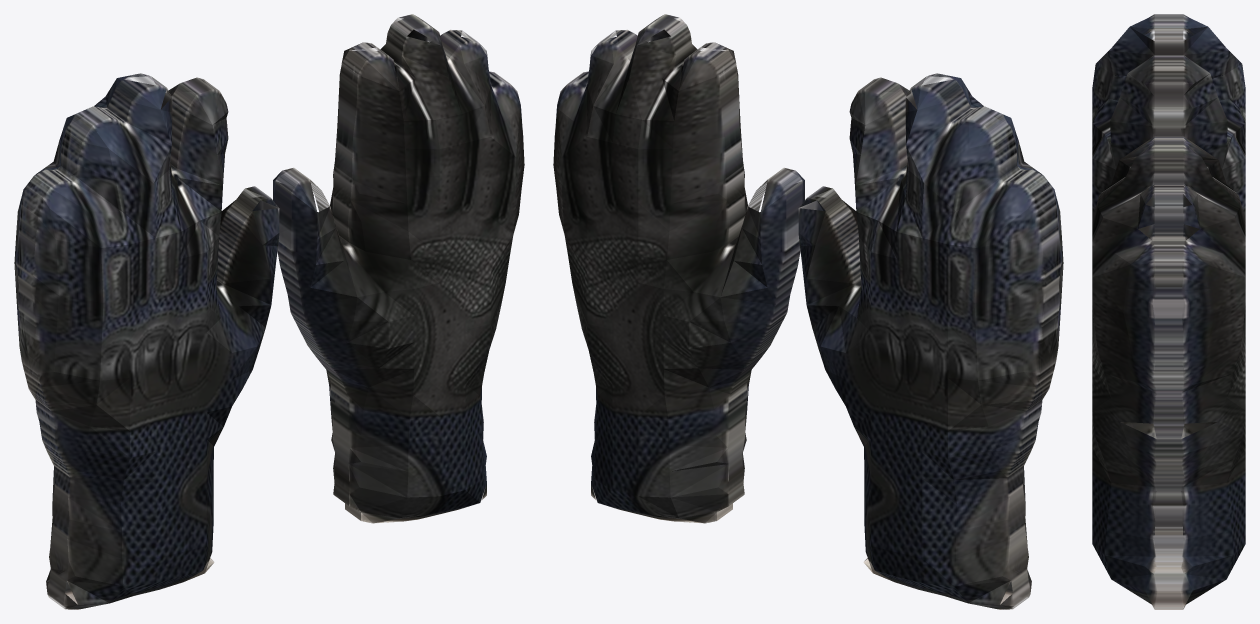
File: bell-circuit-summer-glove-083.glb
The picture shows the model from 3 angles, left to right: view 1: azimuth 30°, elevation 25°; view 2: azimuth 150°, elevation 25°; view 3: azimuth 270°, elevation 25°; orthographic projection. The views are drawn at different scales.
Parts seen in each view (by area): view 1: world; view 2: world; view 3: world.
Boxes of the visible parts, <box> form: world: <box>14,14,524,609</box>; world: <box>553,14,1063,609</box>; world: <box>1092,14,1245,609</box>.
Size of the model in its own units: 1 by 0.9861 by 0.3.
1 material, 1 textured.
